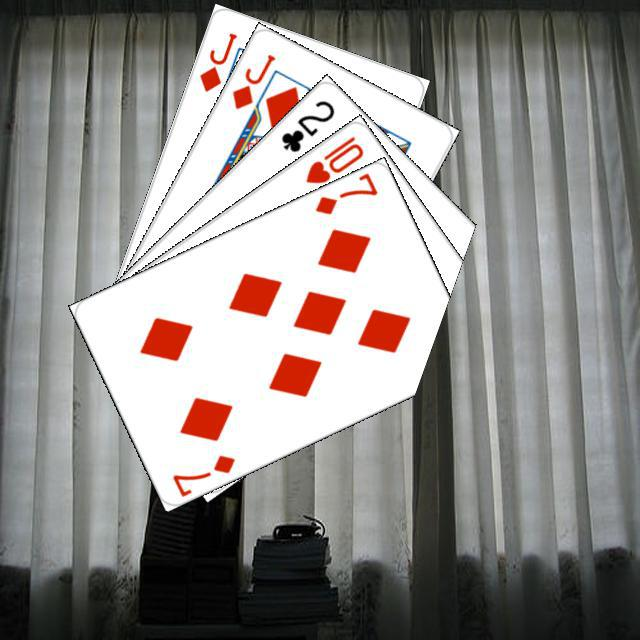10h: (300, 131, 366, 186)
2c: (275, 95, 337, 154)
7d: (310, 169, 380, 217), (167, 450, 237, 497)
Jd: (227, 49, 278, 112), (194, 28, 240, 94)
